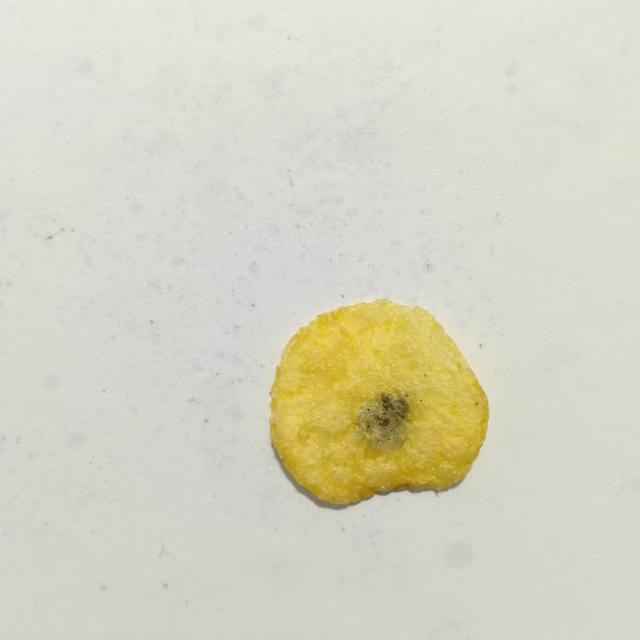chip: (270, 299, 489, 504)
semi-damaged: (358, 393, 409, 449)
